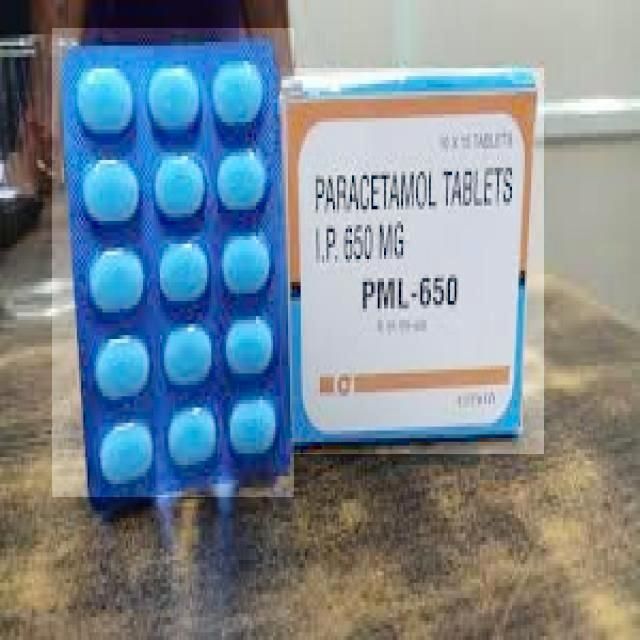authentic: (52, 28, 294, 497), (280, 68, 544, 454)
